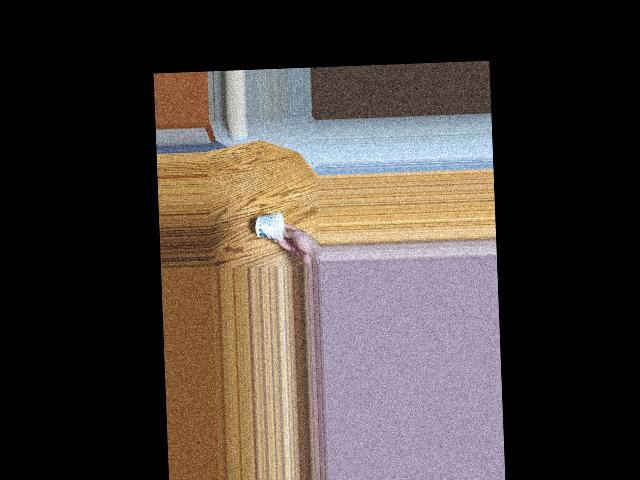cotage: (255, 207, 284, 236)
